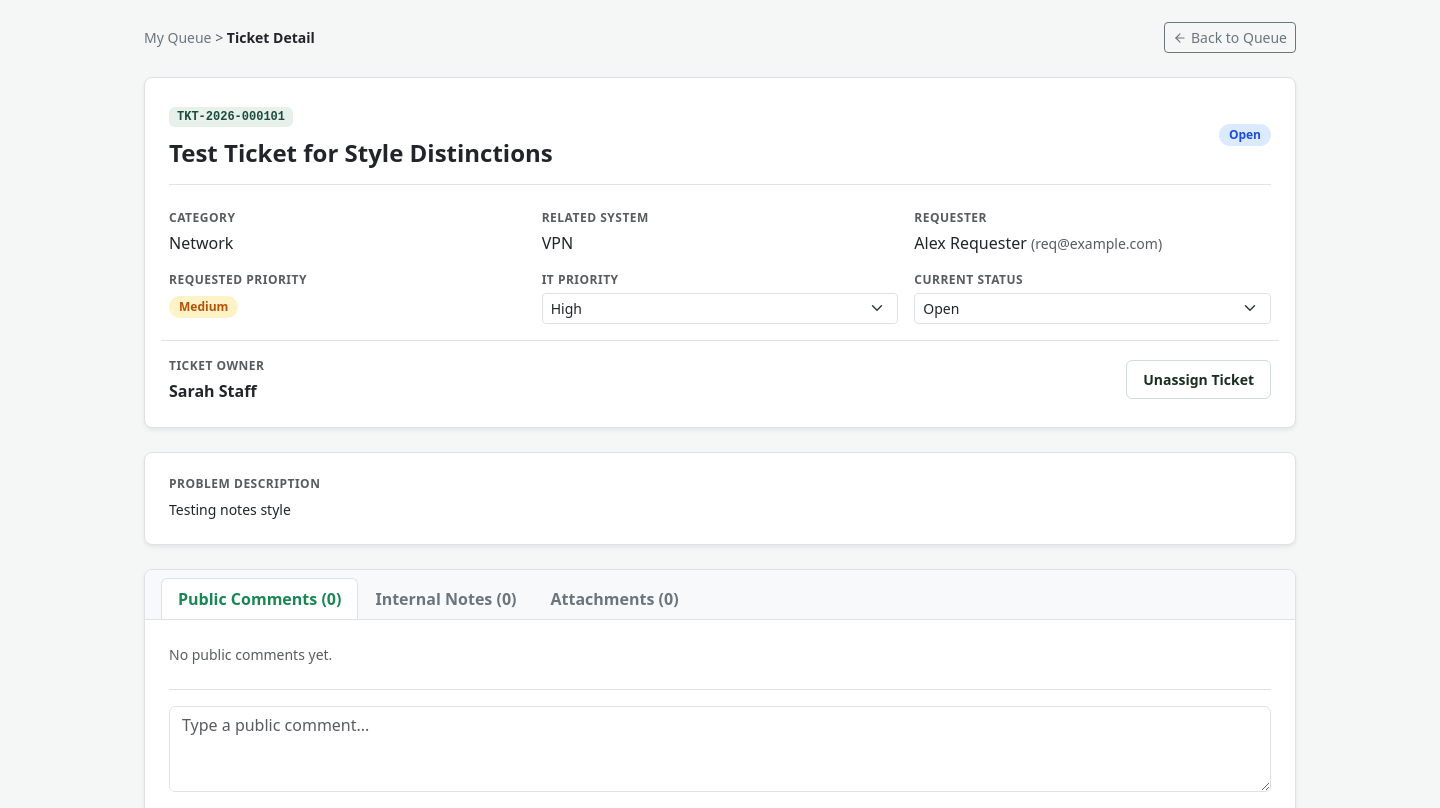
Scenario: STYLE-02: Color distinction between Public Comments and Internal Notes › displays Internal Notes tab with distinct pale yellow warning background and warning text
Expected: the element with test id "ticket-metadata-grid" is shown, [144,77,1296,428]
Note: Click Internal Notes tab
Step 1. Click the button with test id "tab-internal-notes" → x=446, y=599, box [358,578,534,620]
(page scrolled)
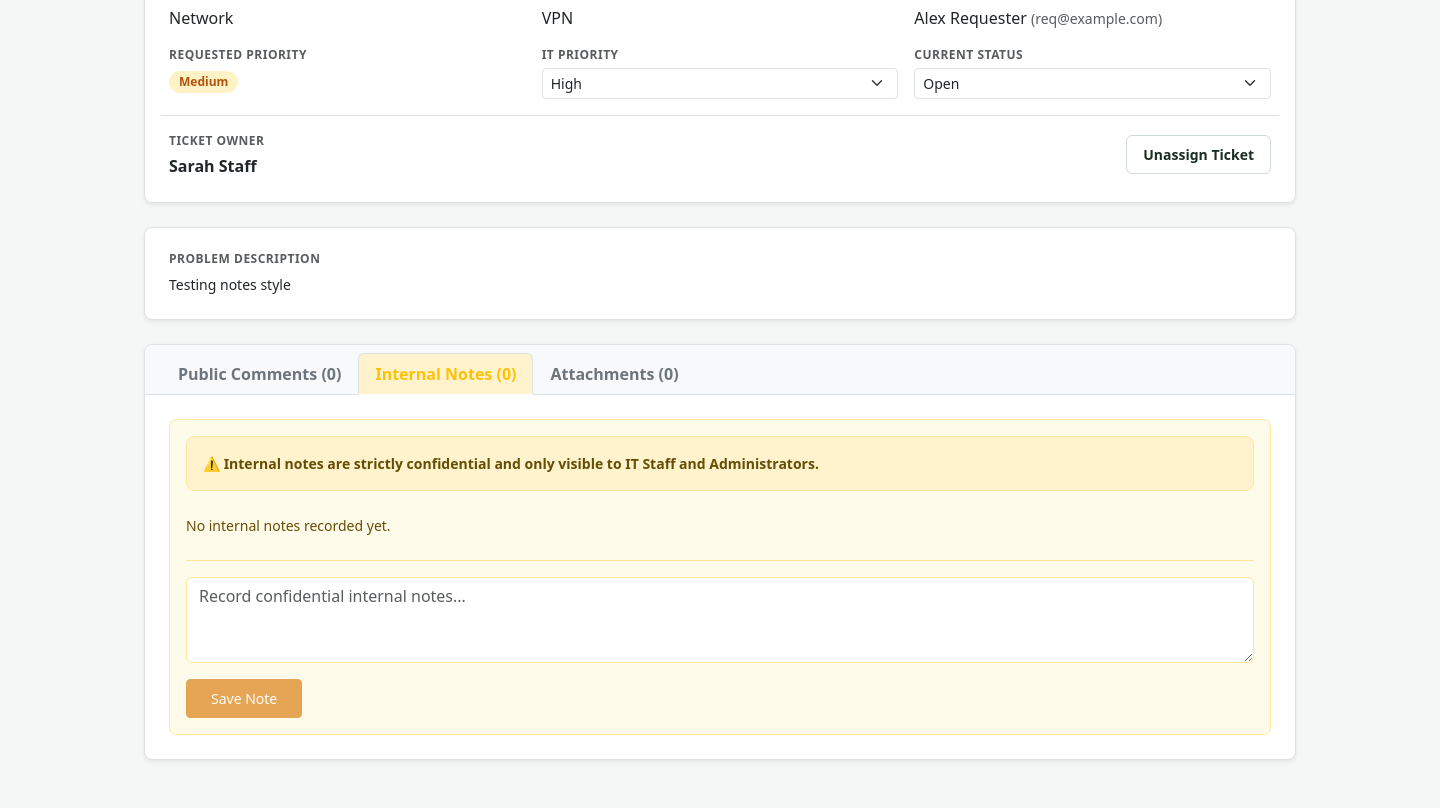
Result: the text with test id "internal-notes-warning" shows "Internal notes are strictly confidential and only visible to IT Staff and Administrators." at [203,454,819,473]
